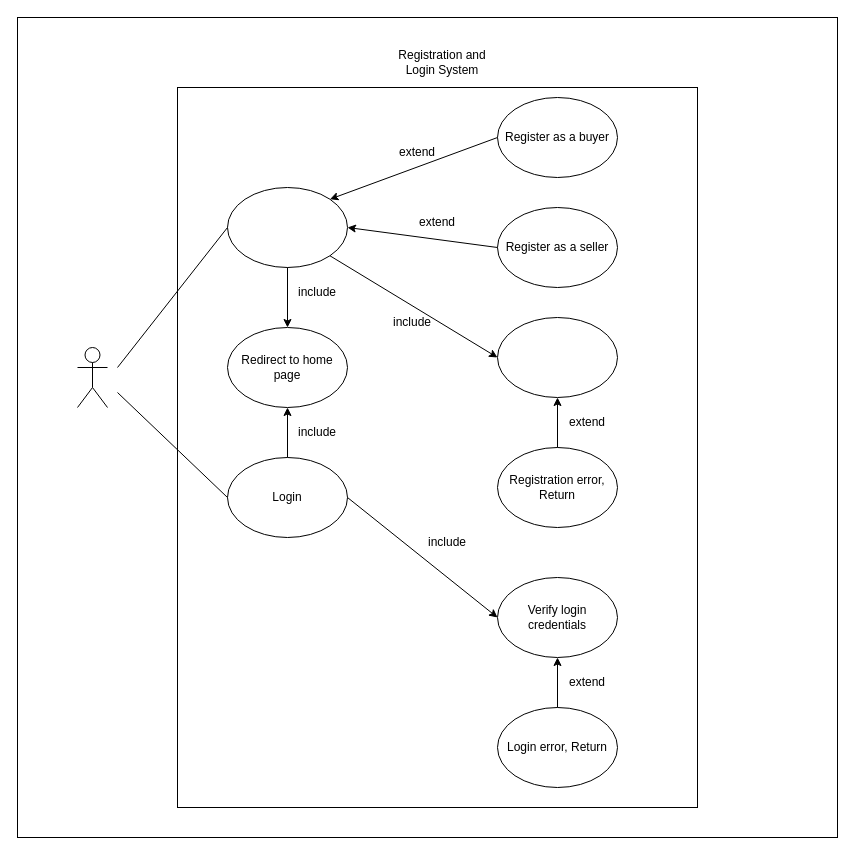
Image size: 855x855. Some labels were removed from this diagram. The centre of each missing label's shape, as x and y in pixels:
"Create email/password" goes at pixel 557 357.
"Register account" goes at pixel 287 227.
"User" goes at pixel 92 377.
